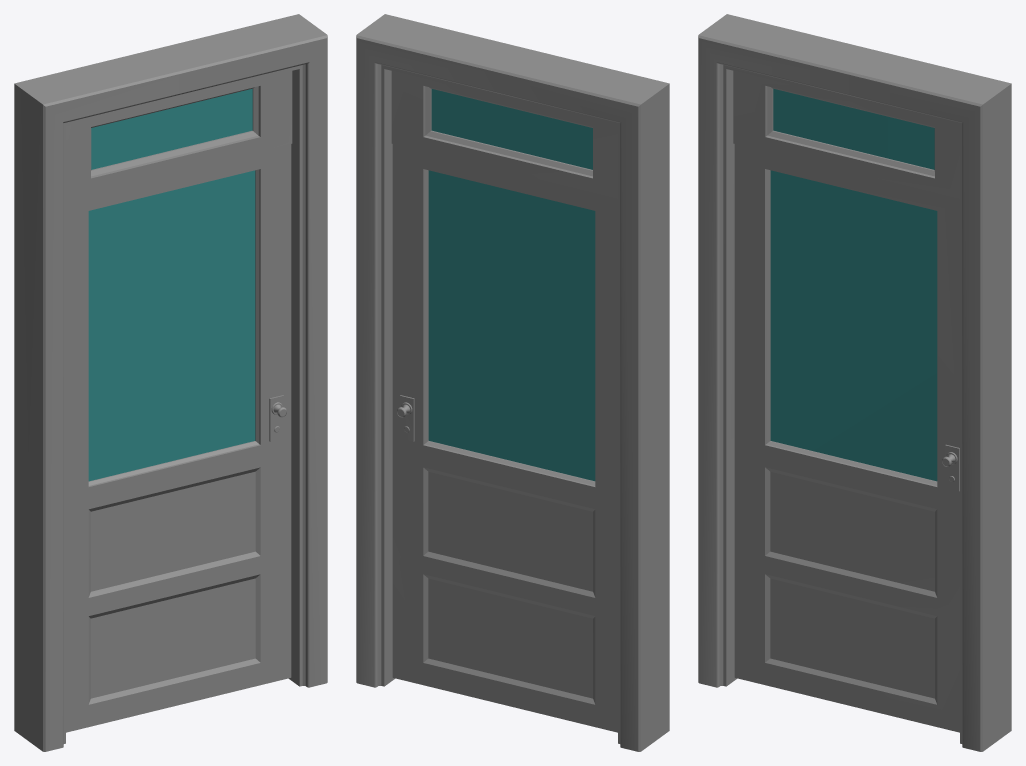
The model's file is Door.FBX.
3 renders of one model, left to right at view 1: azimuth 30°, elevation 25°; view 2: azimuth 150°, elevation 25°; view 3: azimuth 330°, elevation 25°, orthographic.
Parts seen in each view (by area): view 1: DoorMain_low001; view 2: DoorMain_low001; view 3: DoorMain_low001.
Part boxes in pixels (x1=…): DoorMain_low001: x1=14, y1=14, x2=327, y2=751; DoorMain_low001: x1=356, y1=14, x2=669, y2=751; DoorMain_low001: x1=698, y1=14, x2=1011, y2=751.
Size of the model in its own units: 101 by 220 by 18.78.
